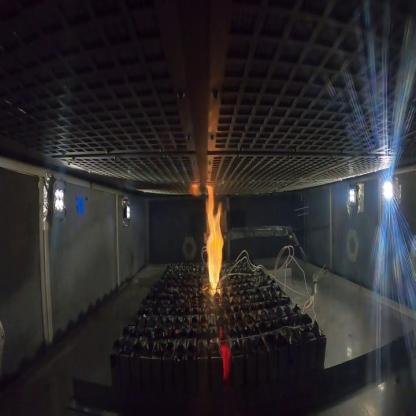fire: (201, 181, 227, 292)
